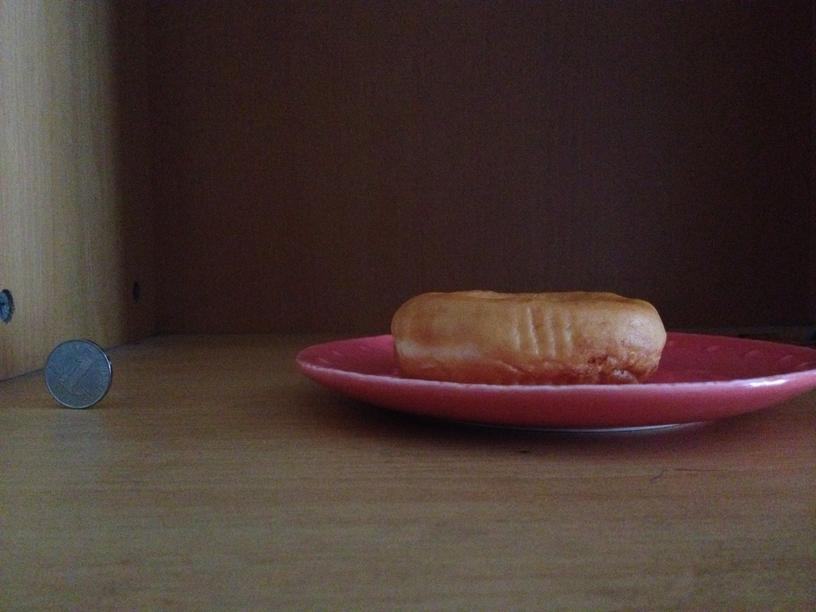coin: (43, 339, 112, 410)
doughnut: (390, 285, 666, 381)
